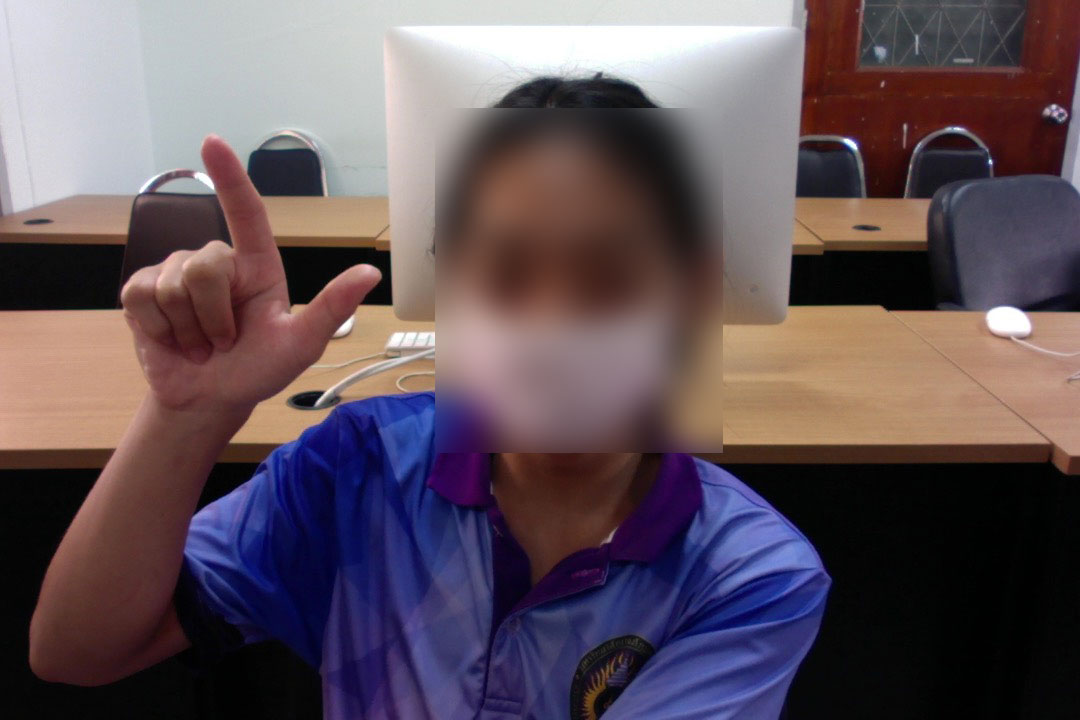lor: (90, 117, 402, 460)
